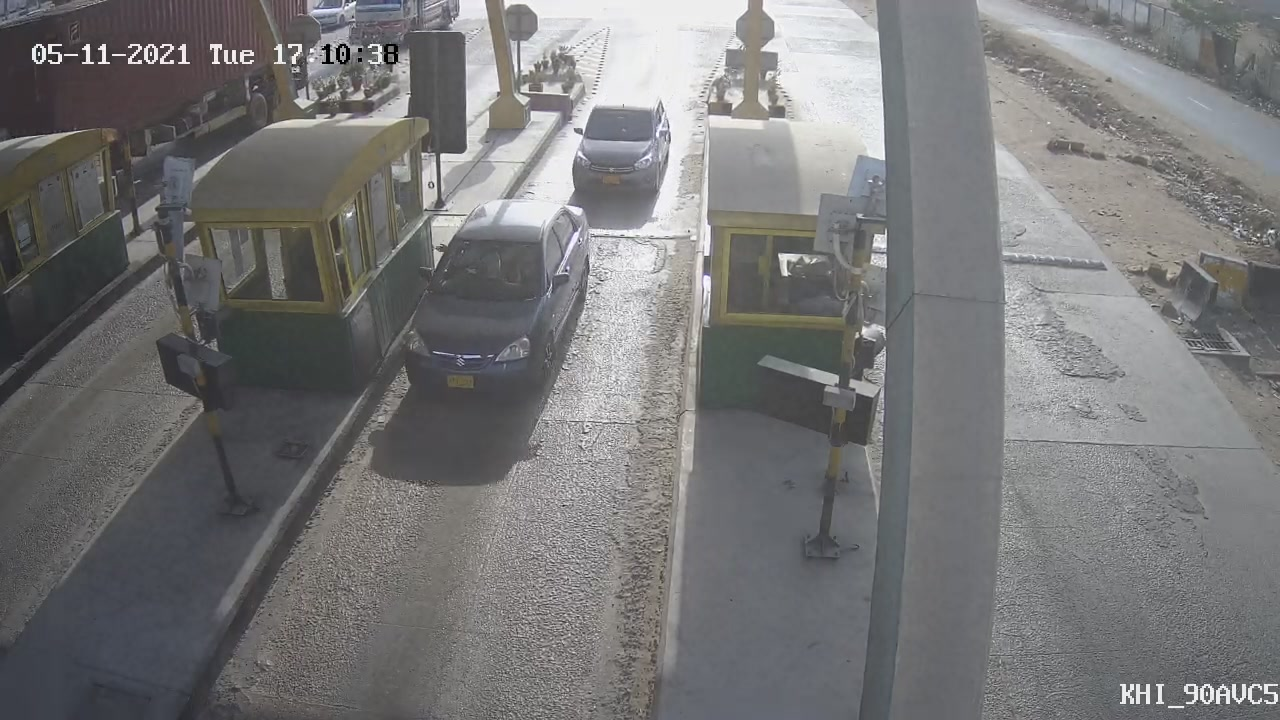F1: (383, 182, 614, 422), (556, 86, 686, 208)
